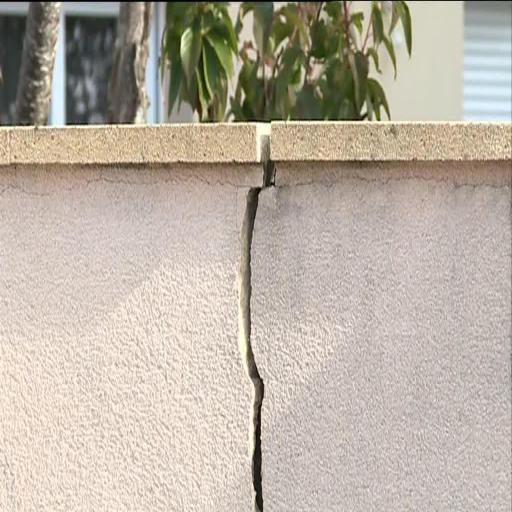spalling: (234, 190, 271, 507)
